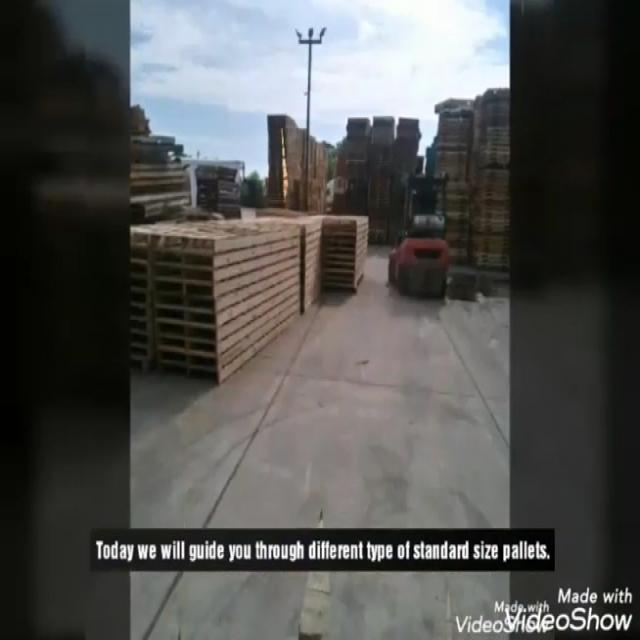Chariot elevateur: (389, 164, 453, 306)
Palette: (132, 220, 298, 392), (296, 212, 368, 304), (435, 103, 477, 255), (480, 90, 510, 263), (374, 110, 395, 242), (345, 116, 374, 206), (396, 114, 422, 199)
